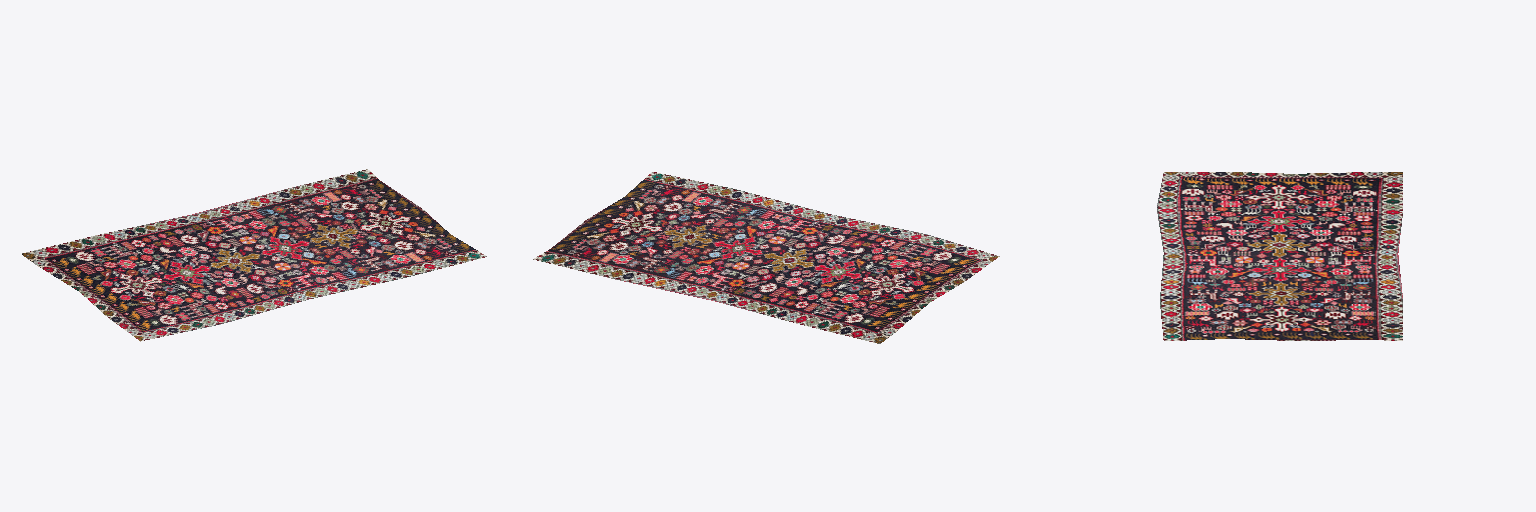
3 renders of one model, left to right at view 1: azimuth 30°, elevation 25°; view 2: azimuth 150°, elevation 25°; view 3: azimuth 270°, elevation 25°, orthographic.
Parts seen in each view (by area): view 1: rug3; view 2: rug3; view 3: rug3.
Boxes of the visible parts, box(x1,y1,x2,y2) form: rug3: box(22, 169, 486, 341); rug3: box(533, 172, 999, 343); rug3: box(1157, 172, 1402, 340).
Bounding box in the file's own units: 3.54 × 0.0111 × 2.18.
Materials: 1 (1 with a texture image).